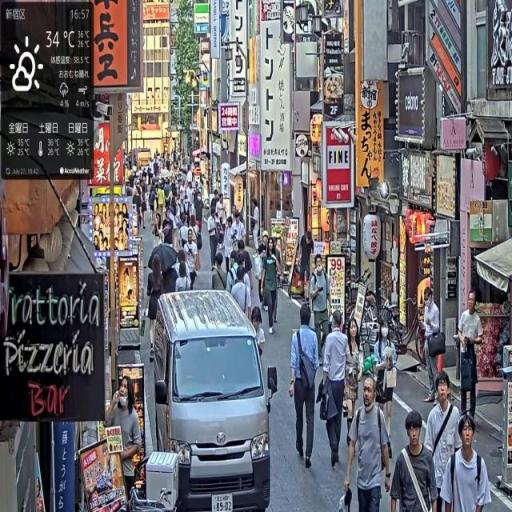person: (344, 371, 395, 512), (288, 298, 322, 476), (424, 369, 464, 512), (319, 311, 354, 472), (388, 410, 439, 512), (442, 413, 492, 512), (105, 376, 143, 498), (458, 290, 485, 427), (309, 253, 331, 366), (262, 237, 283, 334), (252, 307, 268, 361), (208, 205, 221, 271), (212, 252, 229, 293)
